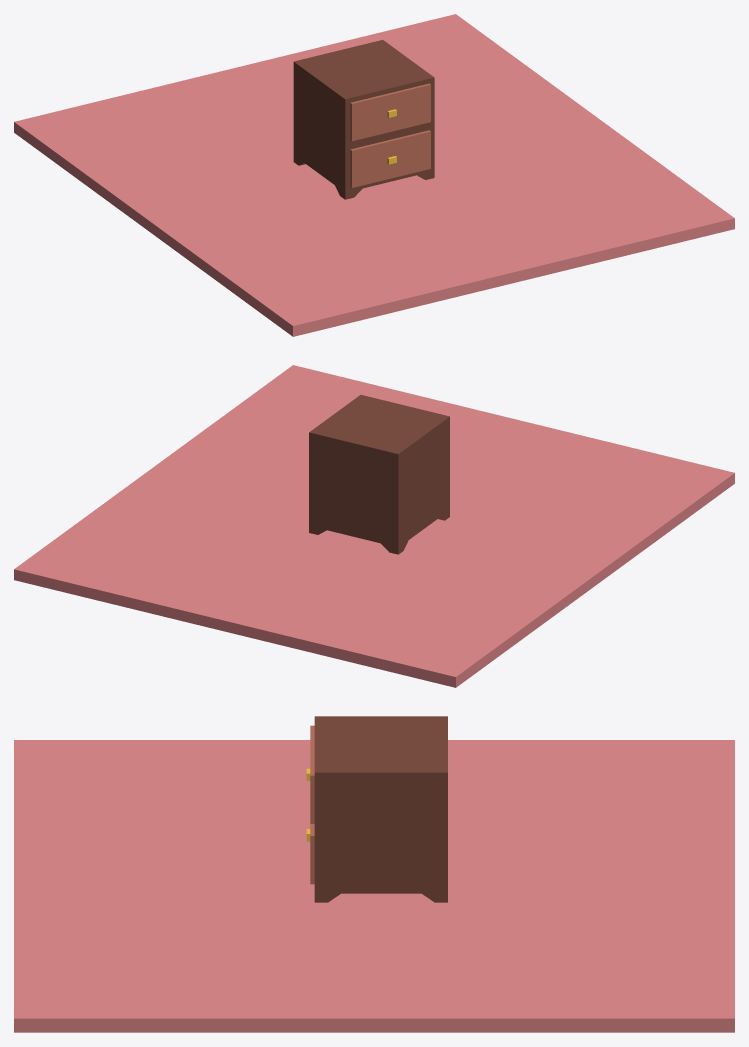
The picture shows the model from 3 angles, top to bottom: view 1: azimuth 30°, elevation 25°; view 2: azimuth 150°, elevation 25°; view 3: azimuth 270°, elevation 25°; orthographic projection. The views are drawn at different scales.
Parts seen in each view (by area): view 1: Ground, Drawer; view 2: Ground, Drawer; view 3: Ground, Drawer.
Boxes of the visible parts, x1,y1,x2,y2 form: Ground: [14, 14, 734, 336]; Drawer: [293, 40, 434, 199]; Ground: [14, 365, 734, 687]; Drawer: [309, 395, 449, 554]; Ground: [14, 740, 734, 1032]; Drawer: [306, 716, 447, 902].
Bounding box in the file's own units: 989 × 238 × 1082.
